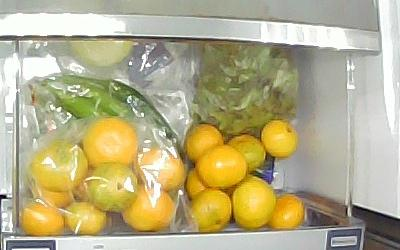tangerine: (232, 178, 277, 229), (195, 145, 247, 186), (188, 187, 231, 236), (184, 124, 224, 163), (228, 132, 265, 170), (263, 120, 299, 159), (271, 193, 304, 229), (183, 168, 207, 198)
tangerine_vinyl: (33, 139, 89, 191), (84, 117, 136, 170), (120, 186, 178, 232), (87, 162, 139, 212), (140, 148, 186, 188), (19, 205, 65, 237), (65, 202, 108, 235), (32, 182, 77, 208)
